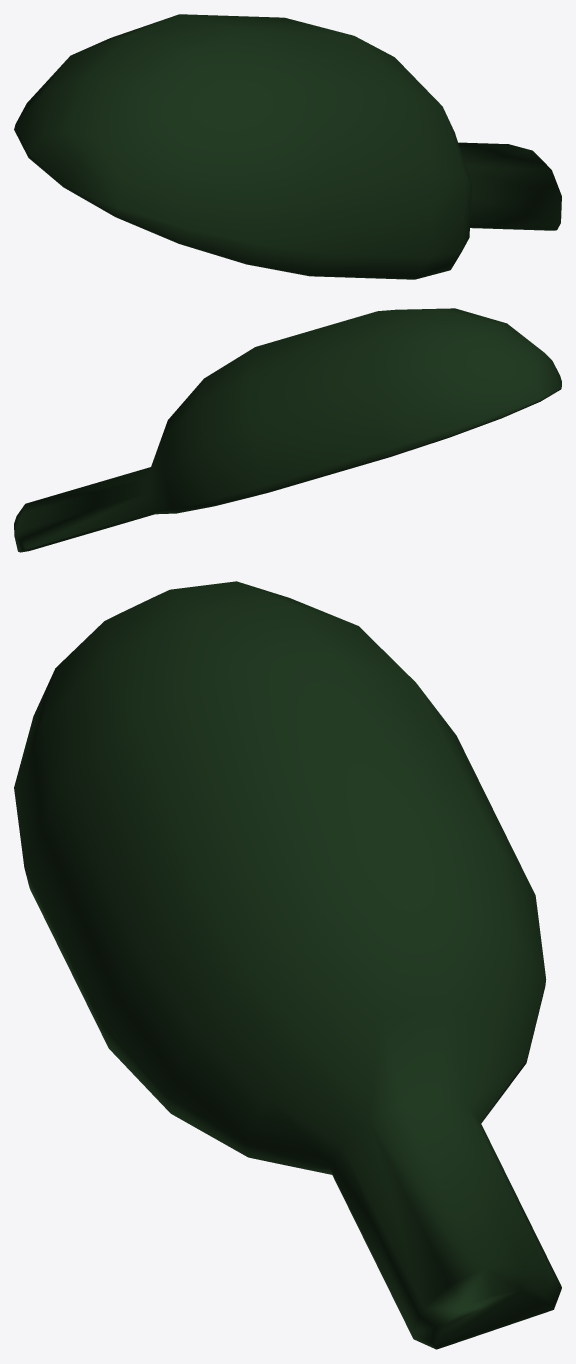
The model's file is WeaponLiquidWater.glb.
The picture shows the model from 3 angles, top to bottom: view 1: azimuth 30°, elevation 25°; view 2: azimuth 150°, elevation 25°; view 3: azimuth 270°, elevation 25°; orthographic projection. The views are drawn at different scales.
Visible parts, largest first — view 1: LiquidWater; view 2: LiquidWater; view 3: LiquidWater.
Part boxes in pixels (x1,y1,x2,y2): LiquidWater: (14, 14, 561, 279); LiquidWater: (14, 308, 561, 552); LiquidWater: (14, 581, 561, 1349).
Bounding box in the file's own units: 0.2909 × 0.1595 × 0.1757.
1 material, 1 textured.
